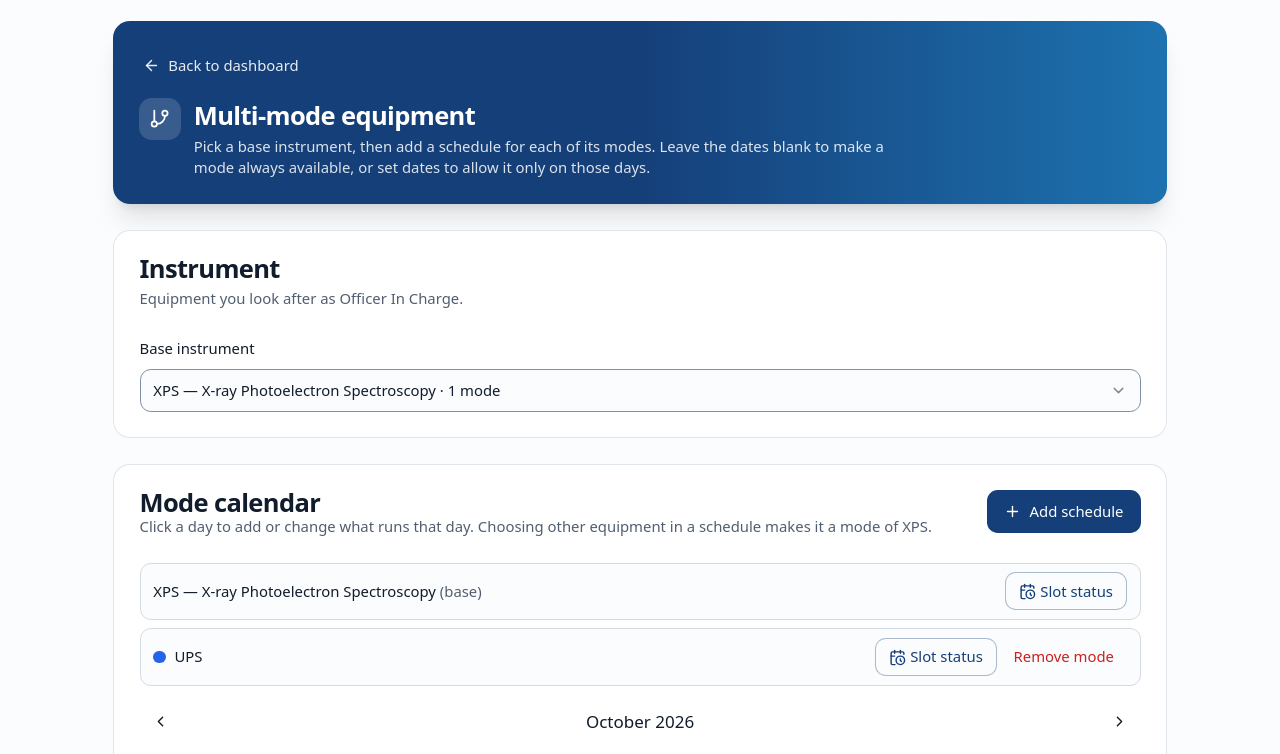
MultiModeEquipment › removes a mode after confirmation
Click the button "Remove mode" at point(1064, 657), box left=1001, top=638, right=1127, bottom=676
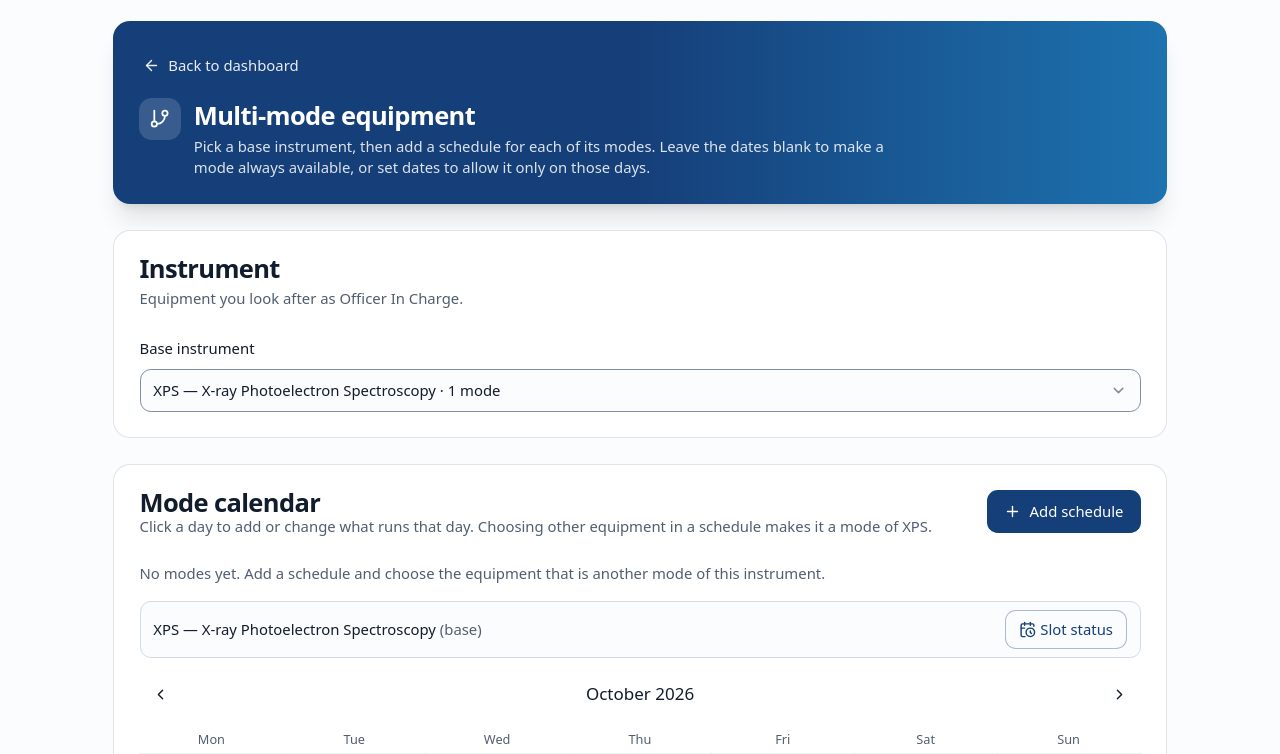
Expected: the button "Remove mode" is gone
